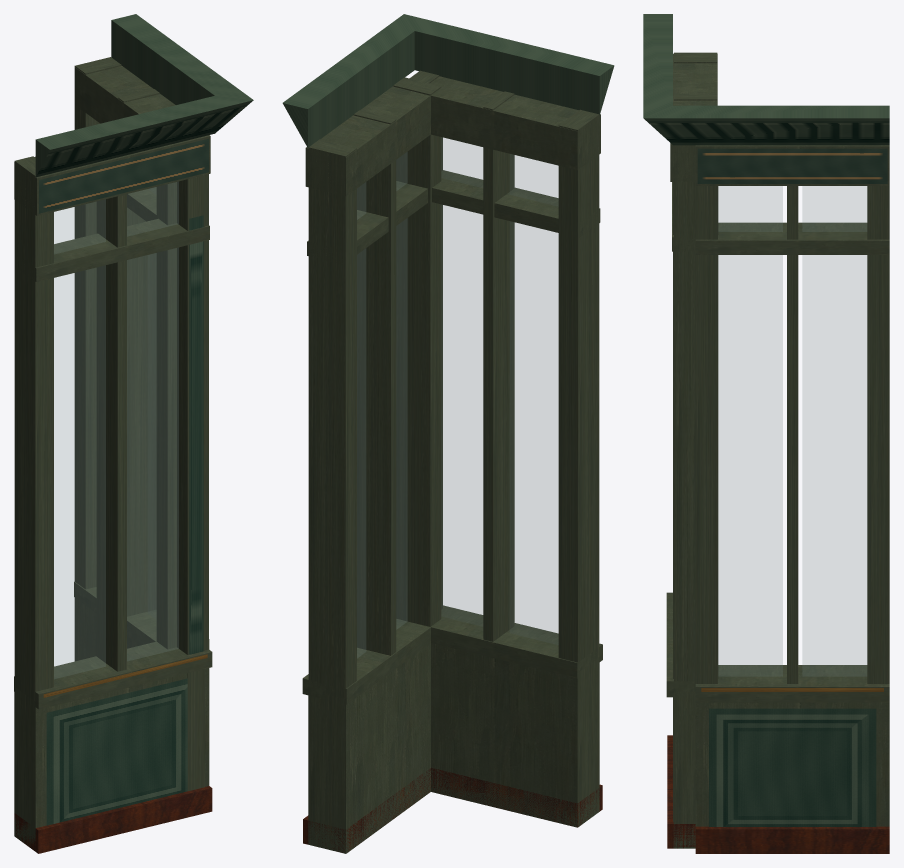
File: city1880-shop-corner.gltf
3 views of the same model, side by side, from view 1: azimuth 30°, elevation 25°; view 2: azimuth 150°, elevation 25°; view 3: azimuth 270°, elevation 25° (orthographic). The views are drawn at different scales.
Parts seen in each view (by area): view 1: Storefront outside return; view 2: Storefront outside return; view 3: Storefront outside return.
Part boxes in pixels (x1,y1,x2,y2): Storefront outside return: [14, 14, 253, 853]; Storefront outside return: [282, 14, 614, 853]; Storefront outside return: [643, 14, 889, 853].
Size of the model in its own units: 0.635 by 2.12 by 0.635.
Materials: 3 (2 with a texture image).
